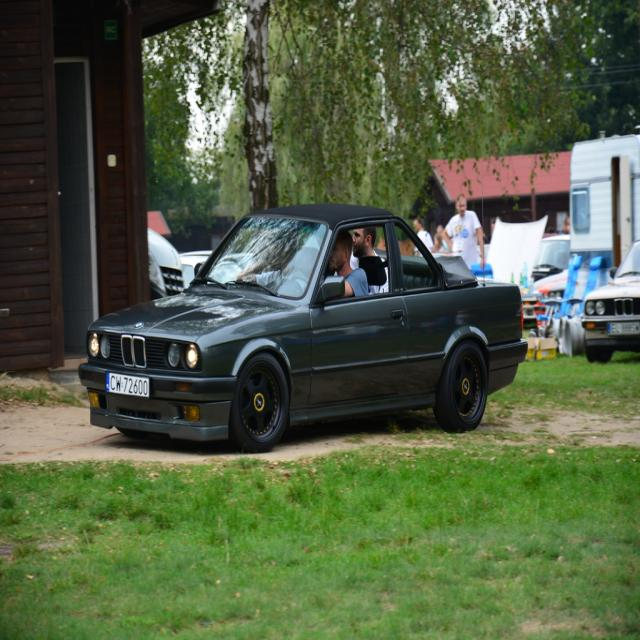car: (77, 194, 529, 453)
